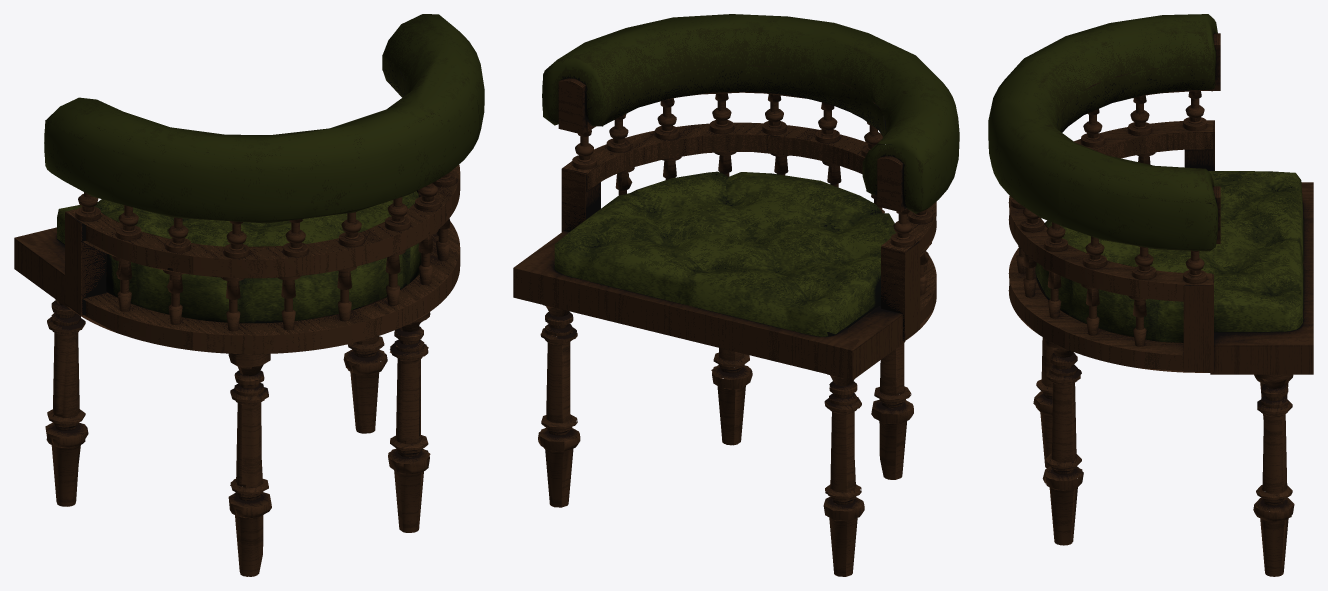
File: worn_leather_office_chair.gltf
3 renders of one model, left to right at view 1: azimuth 30°, elevation 25°; view 2: azimuth 150°, elevation 25°; view 3: azimuth 270°, elevation 25°, orthographic. The views are drawn at different scales.
Visible parts, largest first — view 1: Leather Top, Chair Arc, Wood Legs, Leather Seating, Chair Details, Wood Front; view 2: Leather Seating, Leather Top, Wood Front, Wood Legs, Chair Arc, Chair Details; view 3: Leather Top, Leather Seating, Chair Arc, Wood Legs, Wood Front, Chair Details.
Part boxes in pixels (<box>): Leather Top: <box>44,14,484,223</box>; Chair Arc: <box>66,74,460,354</box>; Wood Legs: <box>45,299,430,576</box>; Leather Seating: <box>57,191,421,323</box>; Chair Details: <box>75,172,456,331</box>; Wood Front: <box>14,190,421,315</box>; Leather Seating: <box>554,171,896,336</box>; Leather Top: <box>542,14,959,213</box>; Wood Front: <box>513,78,920,380</box>; Wood Legs: <box>538,305,913,576</box>; Chair Arc: <box>563,65,936,341</box>; Chair Details: <box>572,93,932,294</box>; Leather Top: <box>988,14,1217,251</box>; Leather Seating: <box>1035,171,1303,342</box>; Chair Arc: <box>1008,65,1213,372</box>; Wood Legs: <box>1033,337,1294,576</box>; Wood Front: <box>1183,33,1313,374</box>; Chair Details: <box>1011,91,1206,346</box>.
Bounding box in the file's own units: 3.23 × 3.32 × 2.39.
6 materials, 6 textured.
